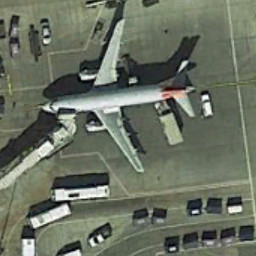Airplane: (25, 9, 201, 180)
